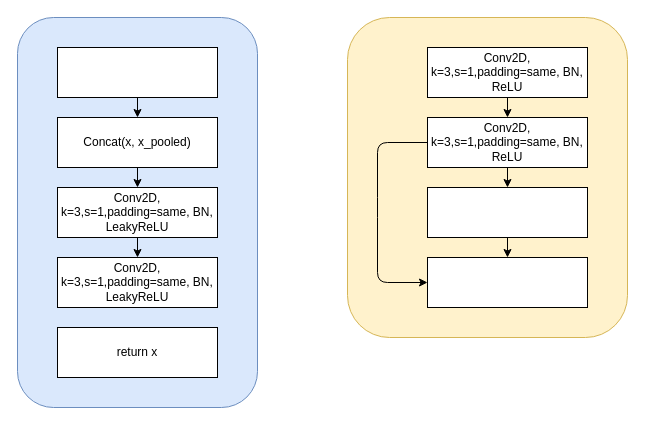
Some shapes in this 645 by 425 pixel diagram are drawn without their labels. Each missing label, with the box of its shape:
MaxPooling2D, k=2,s=2,padding=same, BN, ReLU: (426, 186, 588, 238)
return x, x_pooled: (426, 256, 588, 308)
UpSampling2D, size=(2,2): (56, 46, 218, 98)
